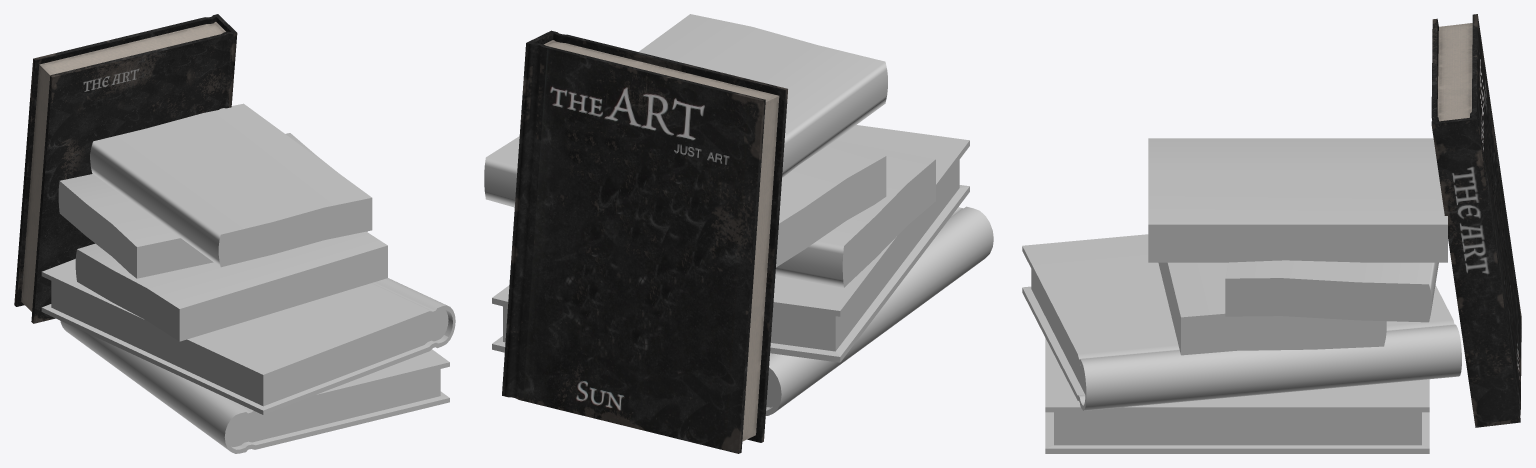
Rendered from SM_Book_Stack_06.FBX.
The picture shows the model from 3 angles, left to right: view 1: azimuth 30°, elevation 25°; view 2: azimuth 150°, elevation 25°; view 3: azimuth 270°, elevation 25°; orthographic projection. The views are drawn at different scales.
Visible parts, largest first — view 1: SM_Book_Stack_06_LOD0; view 2: SM_Book_Stack_06_LOD0; view 3: SM_Book_Stack_06_LOD0.
Boxes of the visible parts, x1,y1,x2,y2 form: SM_Book_Stack_06_LOD0: (14, 14, 455, 453); SM_Book_Stack_06_LOD0: (484, 14, 993, 453); SM_Book_Stack_06_LOD0: (1022, 14, 1521, 453).
Size of what is drawn, in the model's own units: 31.32 by 41.43 by 28.28.
